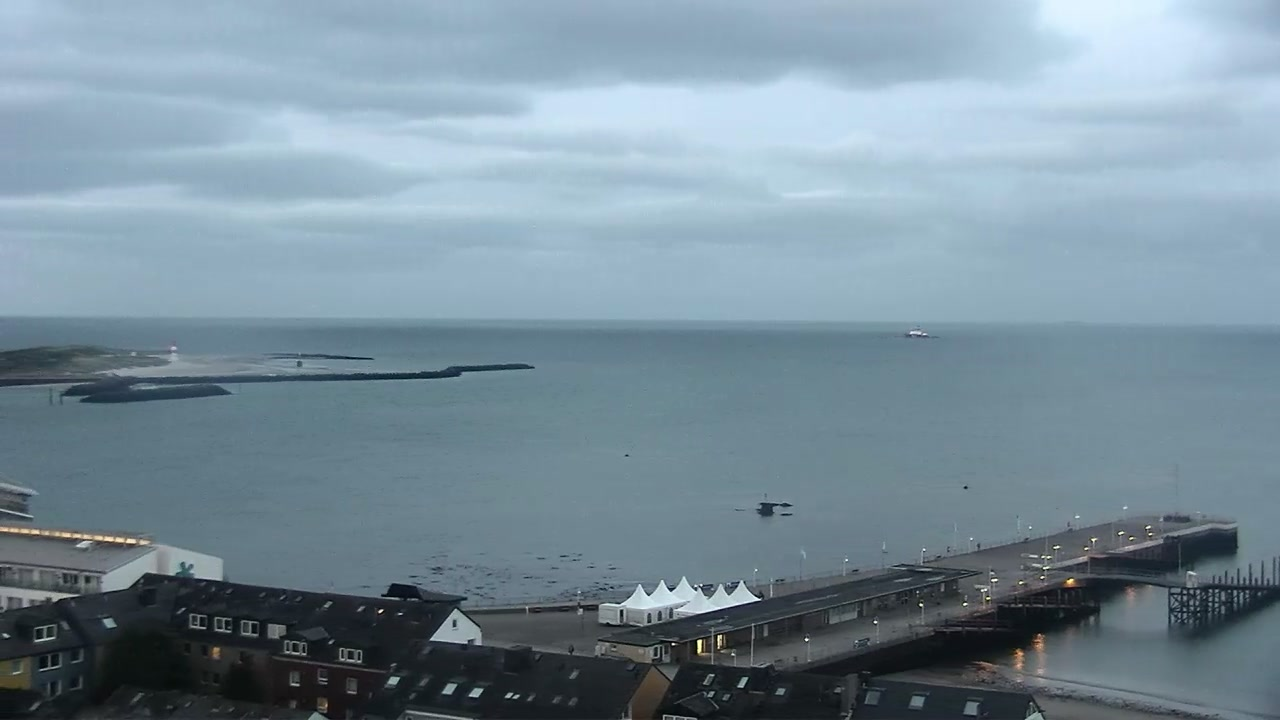human: (567, 644, 575, 656)
sea: (905, 324, 930, 339)
